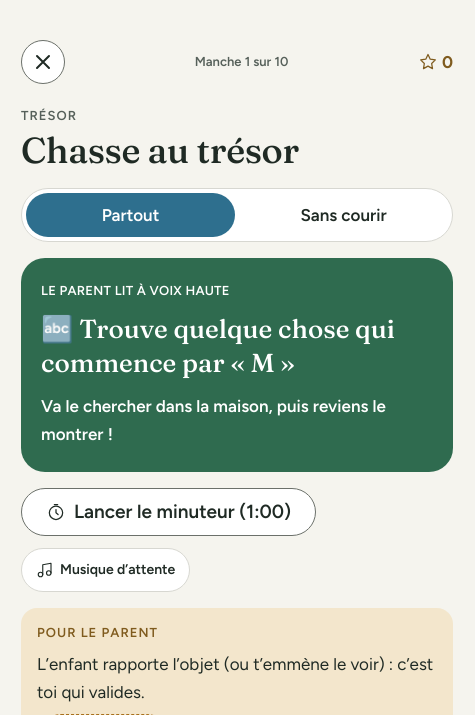
Test case: Chasse au trésor › le minuteur à zéro ne fait pas perdre : le parent décide
Later steps or results of the test are not shown.
Expected: the heading "Chasse au trésor" is shown, [21, 128, 299, 172]
Expected: the radio button labelled "Partout" is checked, [26, 193, 235, 237]
Step 1. Click the button "Lancer le minuteur (1:00)" → point(169, 512), box [21, 488, 316, 536]
Wait 61000 ms
(page scrolled)
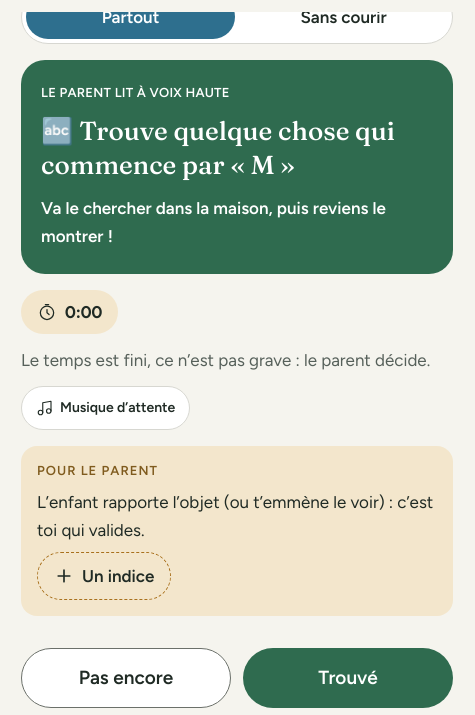
Result: the message shows "ce n’est pas grave : le parent décide" at [21, 350, 430, 370]
Le parent décide : l'objet est trouvé, l'étoile est gagnée quand même.
Step 2. Click the button "Trouvé" → point(348, 678), box [243, 648, 453, 708]
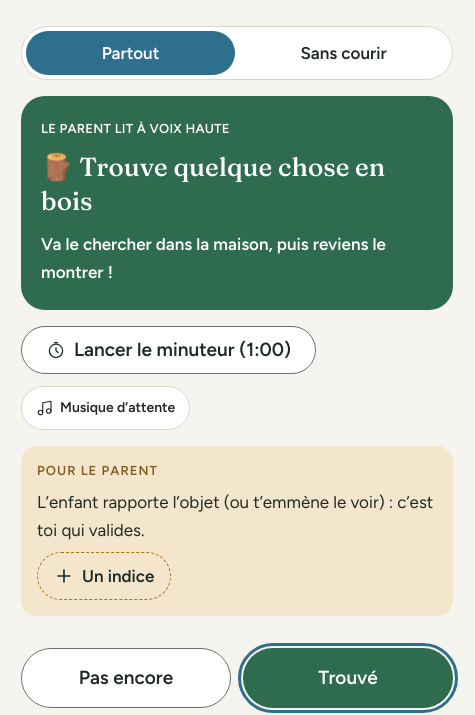
Version sans courir : l'enfant montre du doigt, minuteur plus court.
Step 3. Click the radio button labelled "Sans courir" → point(344, 53), box [300, 43, 387, 63]
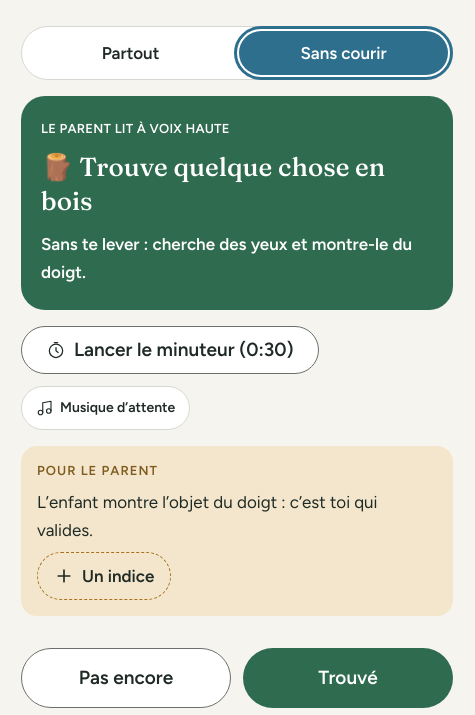
Result: the button "Lancer le minuteur (0:30)" is shown at [21, 326, 319, 374]
Step 4. Click the button "Pas encore" → point(126, 678), box [21, 648, 231, 708]
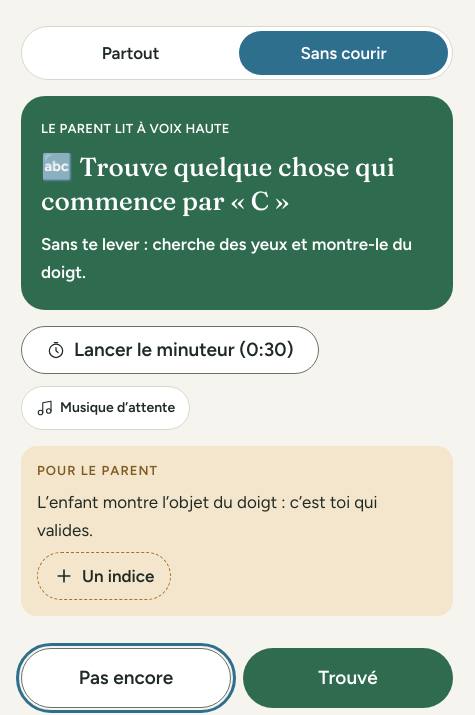
Result: the radio button labelled "Sans courir" is checked at [239, 31, 448, 75]
